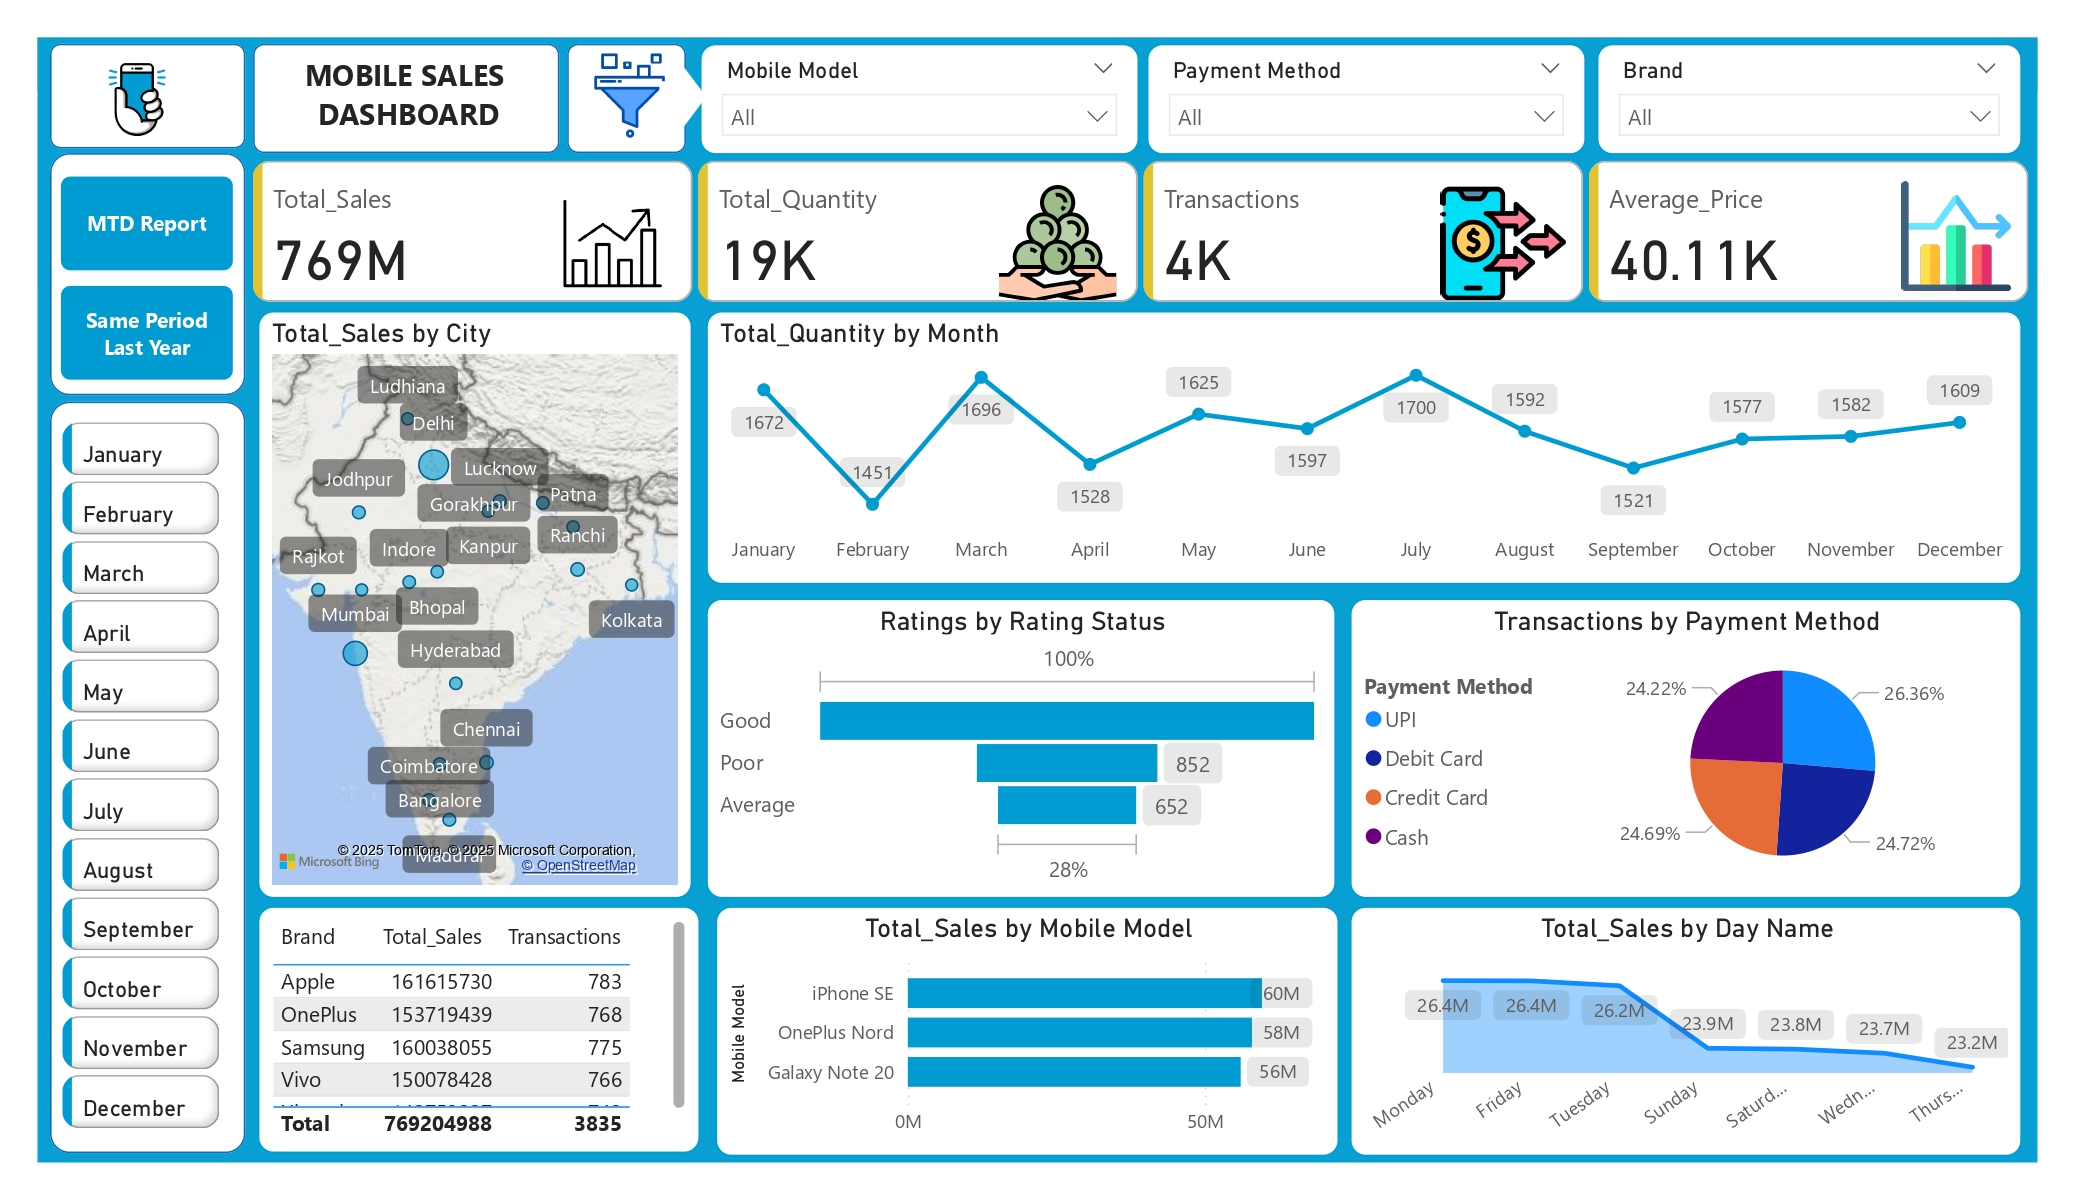

Layout of this report page (visuals, bound fields, positions):
{"tool":"powerbi","page":{"name":"Dashboard","canvas":[1280,720],"ordinal":0},"visuals":[{"type":"shape","box":[7.5,3.8,125,67.5],"z":0},{"type":"image","box":[23.8,3.8,78.8,71.2],"z":1000},{"type":"shape","box":[7.5,73.8,125,155],"z":2000},{"type":"shape","box":[7.5,232.5,125,481.2],"z":3000},{"type":"advancedSlicerVisual","fields":{"Values":["Custom_Calendar.Date.Variation.Date Hierarchy.Month"]},"box":[11.2,241.2,110,472.5],"z":4000},{"type":"cardVisual","fields":{"Data":["Sales_Data.Total_Sales","Sales_Data.Total_Quantity","Sales_Data.Transactions","Sales_Data.Average_Price"]},"box":[132.5,73.8,1147.5,100],"z":5000},{"type":"slicer","fields":{"Values":["Sales_Data.Mobile Model"]},"box":[423.8,3.8,281.2,71.2],"z":6000},{"type":"slicer","fields":{"Values":["Sales_Data.Payment Method"]},"box":[710,3.8,281.2,71.2],"z":7000},{"type":"slicer","fields":{"Values":["Sales_Data.Brand"]},"box":[997.5,3.8,272.5,71.2],"z":8000},{"type":"shape","box":[338.8,3.8,76.2,70],"z":9000},{"type":"image","box":[337.5,3.8,81.2,66.2],"z":10000},{"type":"shape","box":[397.5,17.5,30,40],"z":11000},{"type":"shape","box":[137.5,3.8,196.2,70],"z":12000},{"type":"textbox","box":[156.2,6.2,162.5,63.8],"z":13000},{"type":"map","fields":{"Category":["Sales_Data.City"],"Size":["Sales_Data.Total_Sales"]},"box":[141.2,175,277.5,376.2],"z":14000},{"type":"lineChart","fields":{"Y":["Sales_Data.Total_Quantity"],"Category":["Custom_Calendar.Date.Variation.Date Hierarchy.Month"]},"box":[427.5,175,842.5,175],"z":15000},{"type":"funnel","title":"Ratings by Rating Status","fields":{"Y":["CountNonNull(Sales_Data.Customer Ratings)"],"Category":["Sales_Data.Rating Status"]},"box":[427.5,358.8,403.8,192.5],"z":16000},{"type":"pieChart","fields":{"Y":["Sales_Data.Transactions"],"Category":["Sales_Data.Payment Method"]},"box":[840,358.8,430,192.5],"z":17000},{"type":"clusteredBarChart","fields":{"Y":["Sales_Data.Total_Sales"],"Category":["Sales_Data.Mobile Model"]},"box":[433.8,556.2,398.8,160],"z":18000},{"type":"areaChart","fields":{"Y":["Sales_Data.Total_Sales"],"Category":["Custom_Calendar.Day Name"]},"box":[840,556.2,430,160],"z":19000},{"type":"tableEx","fields":{"Values":["Sales_Data.Brand","Sales_Data.Total_Sales","Sales_Data.Transactions"]},"box":[141.2,556.2,282.5,157.5],"z":20000},{"type":"pageNavigator","box":[15,88.8,110,130],"z":21000}]}

Visuals, with their boxes on the page's 1280x720 design canvas (x1, y1, x2, y2). These are canvas units, not pixel positions in the 2075x1200 screenshot, which may show the page scaled, cropped or inside an application window:
shape: bbox=[8, 4, 132, 71]
image: bbox=[24, 4, 103, 75]
shape: bbox=[8, 74, 132, 229]
shape: bbox=[8, 232, 132, 714]
advancedSlicerVisual - Custom_Calendar.Date.Variation.Date Hierarchy.Month: bbox=[11, 241, 121, 714]
cardVisual - Sales_Data.Total_Sales x Sales_Data.Total_Quantity: bbox=[132, 74, 1280, 174]
slicer - Sales_Data.Mobile Model: bbox=[424, 4, 705, 75]
slicer - Sales_Data.Payment Method: bbox=[710, 4, 991, 75]
slicer - Sales_Data.Brand: bbox=[998, 4, 1270, 75]
shape: bbox=[339, 4, 415, 74]
image: bbox=[338, 4, 419, 70]
shape: bbox=[398, 18, 428, 58]
shape: bbox=[138, 4, 334, 74]
textbox: bbox=[156, 6, 319, 70]
map - Sales_Data.City x Sales_Data.Total_Sales: bbox=[141, 175, 419, 551]
lineChart - Sales_Data.Total_Quantity x Custom_Calendar.Date.Variation.Date Hierarchy.Month: bbox=[428, 175, 1270, 350]
"Ratings by Rating Status" funnel: bbox=[428, 359, 831, 551]
pieChart - Sales_Data.Transactions x Sales_Data.Payment Method: bbox=[840, 359, 1270, 551]
clusteredBarChart - Sales_Data.Total_Sales x Sales_Data.Mobile Model: bbox=[434, 556, 833, 716]
areaChart - Sales_Data.Total_Sales x Custom_Calendar.Day Name: bbox=[840, 556, 1270, 716]
tableEx - Sales_Data.Brand x Sales_Data.Total_Sales: bbox=[141, 556, 424, 714]
pageNavigator: bbox=[15, 89, 125, 219]
